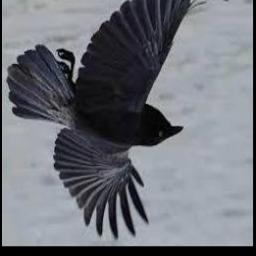Crow: (7, 0, 230, 240)
